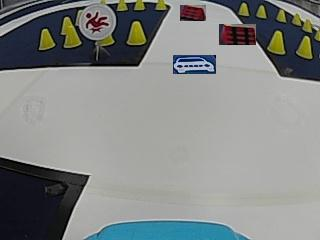cone: (127, 20, 146, 46), (267, 30, 286, 55), (62, 22, 80, 48), (296, 35, 312, 59), (38, 28, 54, 50), (237, 1, 249, 16), (256, 4, 267, 19), (276, 8, 286, 23), (292, 11, 301, 26), (116, 0, 127, 11), (134, 0, 145, 11), (303, 17, 311, 32), (155, 0, 166, 10)
tumble: (82, 6, 114, 36)
